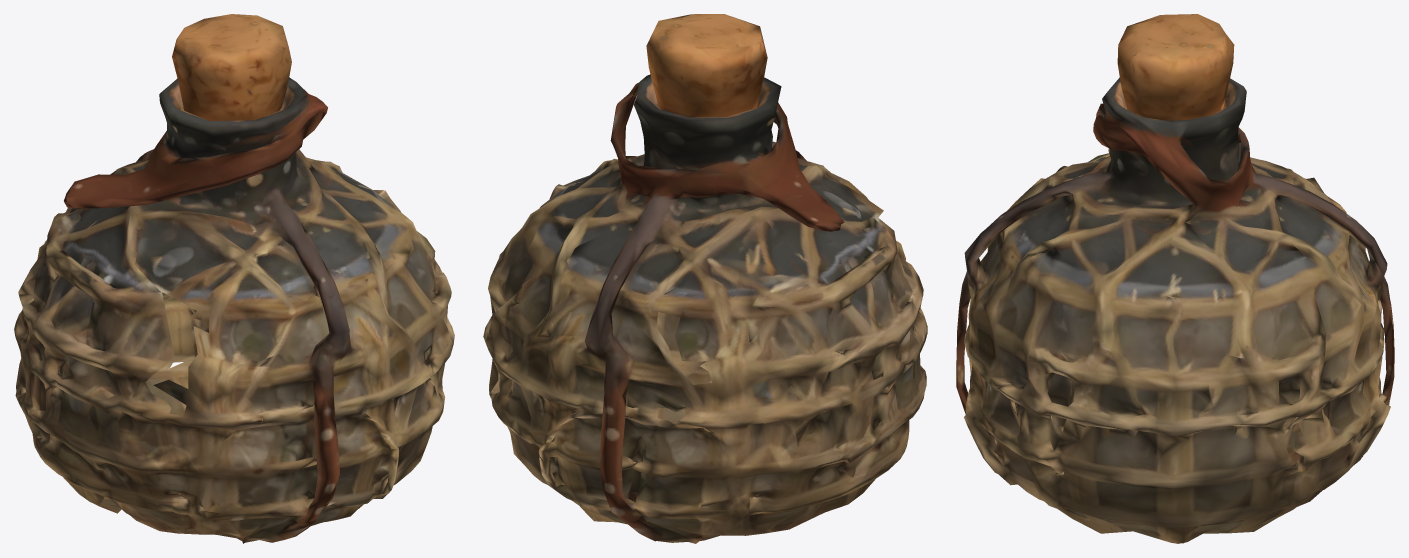
Rendered from flask.obj.
3 views of the same model, side by side, from view 1: azimuth 30°, elevation 25°; view 2: azimuth 150°, elevation 25°; view 3: azimuth 270°, elevation 25° (orthographic).
Parts seen in each view (by area): view 1: flask; view 2: flask; view 3: flask.
Part boxes in pixels (left/top/right/bottom): flask: left=14, top=14, right=454, bottom=543; flask: left=483, top=14, right=927, bottom=543; flask: left=956, top=14, right=1394, bottom=543.
Size of the model in its own units: 0.1688 by 0.2 by 0.1681.
1 material, 1 textured.
